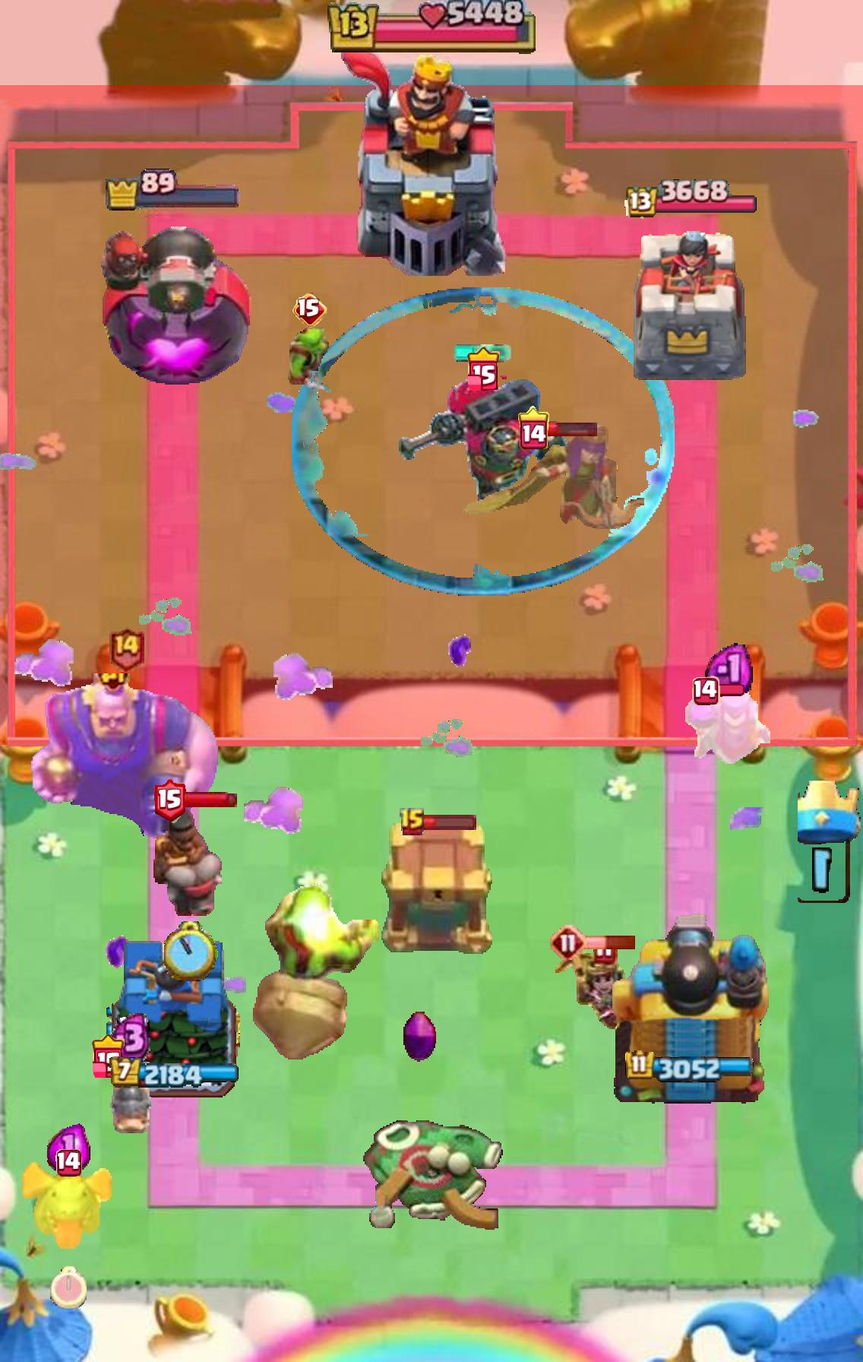elixir: (705, 640, 753, 696), (108, 1010, 153, 1066), (47, 1124, 90, 1175)
